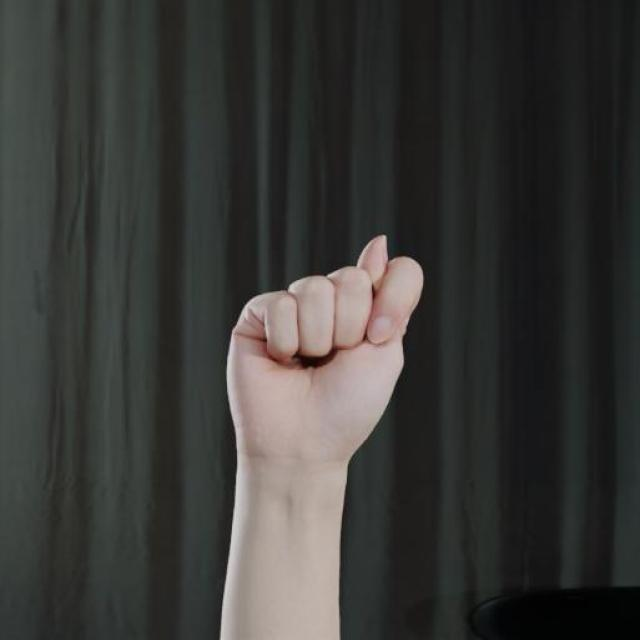T: (221, 232, 429, 468)
